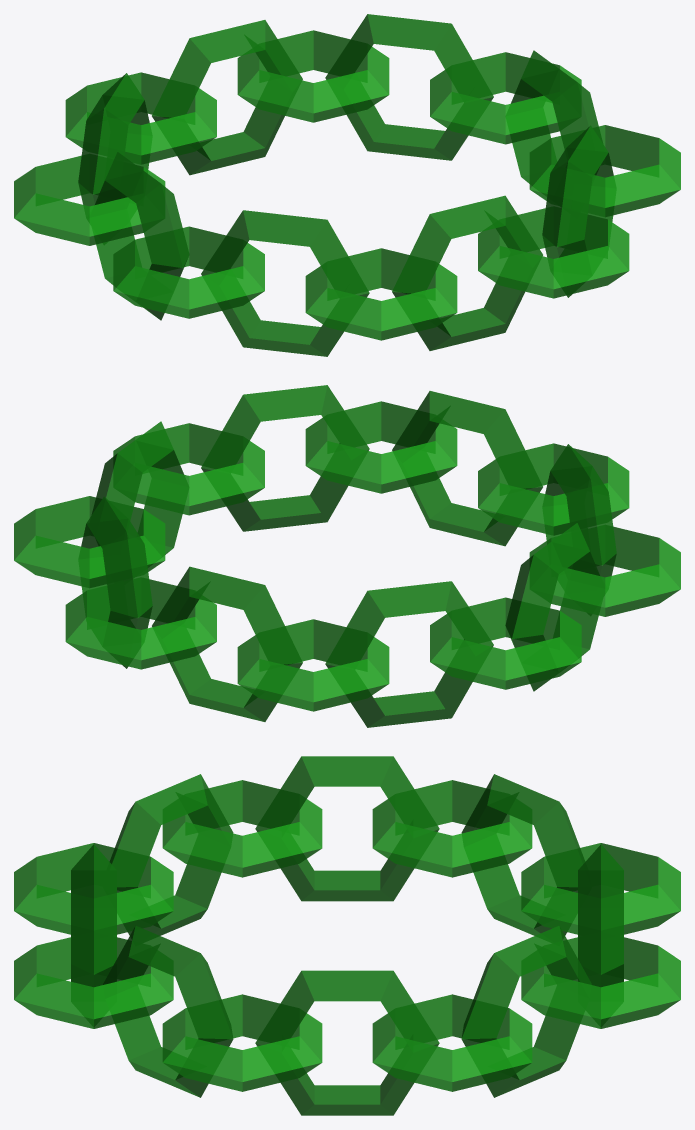
The model's file is fractalregulartetragonaltoroid1.glb.
3 renders of one model, top to bottom at view 1: azimuth 30°, elevation 25°; view 2: azimuth 150°, elevation 25°; view 3: azimuth 270°, elevation 25°, orthographic. The views are drawn at different scales.
Bounding box in the file's own units: 10.91 × 2.52 × 10.52.
